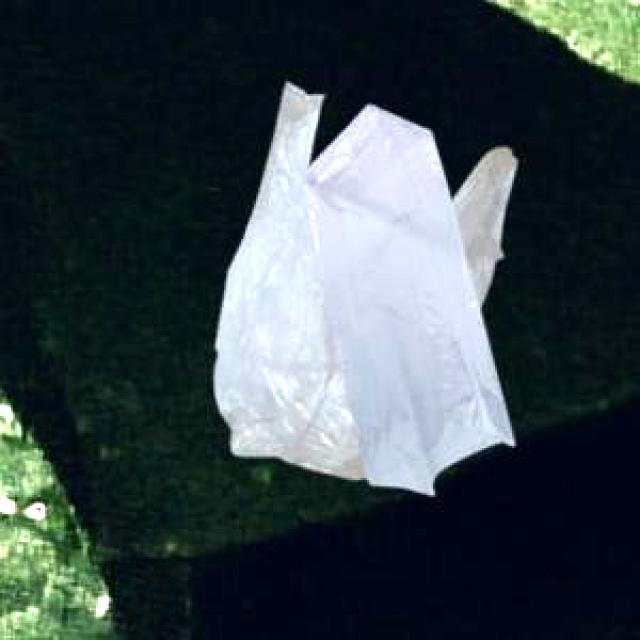Plastic_Bag: (212, 80, 513, 477), (300, 101, 511, 492)
